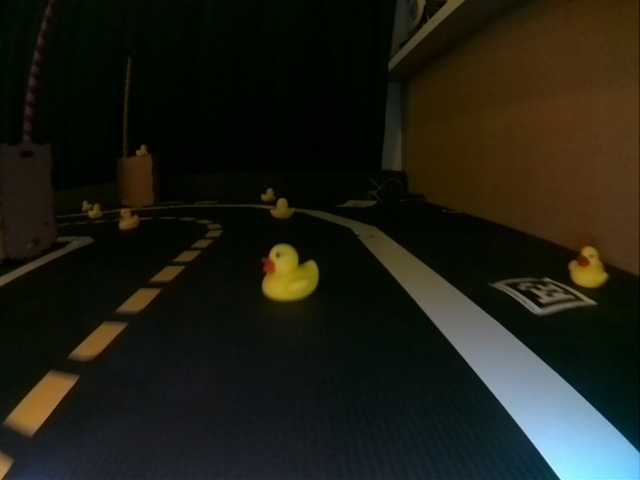Duckie: (261, 246, 320, 302), (572, 247, 607, 288), (271, 199, 295, 219), (120, 210, 138, 229), (264, 188, 276, 201), (135, 144, 147, 156), (90, 204, 101, 217), (81, 200, 90, 208)
QR code: (493, 277, 597, 313)
